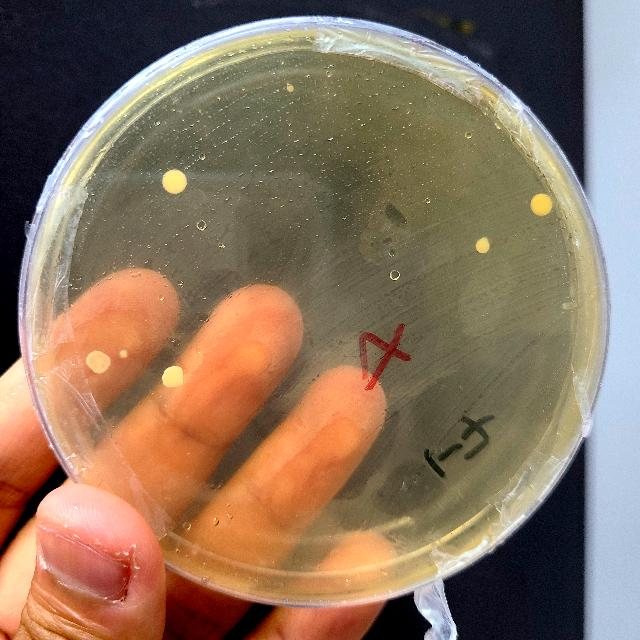colony: (85, 350, 111, 374), (164, 168, 186, 194), (162, 364, 184, 388), (530, 192, 552, 216), (475, 236, 491, 254), (120, 349, 128, 358), (287, 85, 293, 92)
